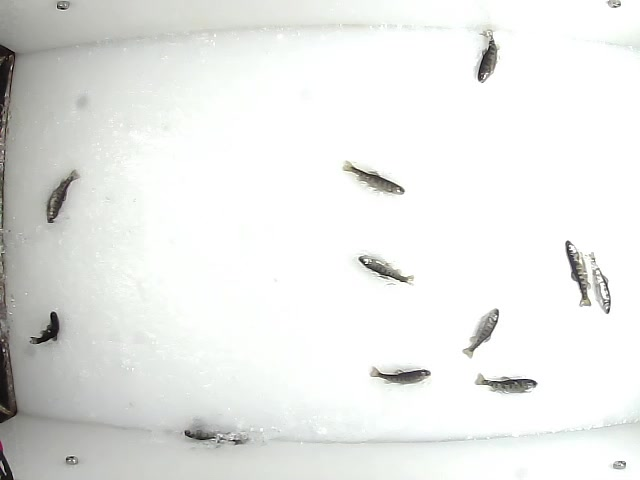fish: (339, 160, 408, 196), (44, 167, 83, 224), (563, 236, 593, 309), (461, 307, 503, 359), (356, 253, 419, 287), (585, 247, 612, 317), (473, 28, 499, 82), (474, 373, 540, 393), (27, 310, 61, 348), (184, 429, 255, 447), (370, 366, 431, 384)
